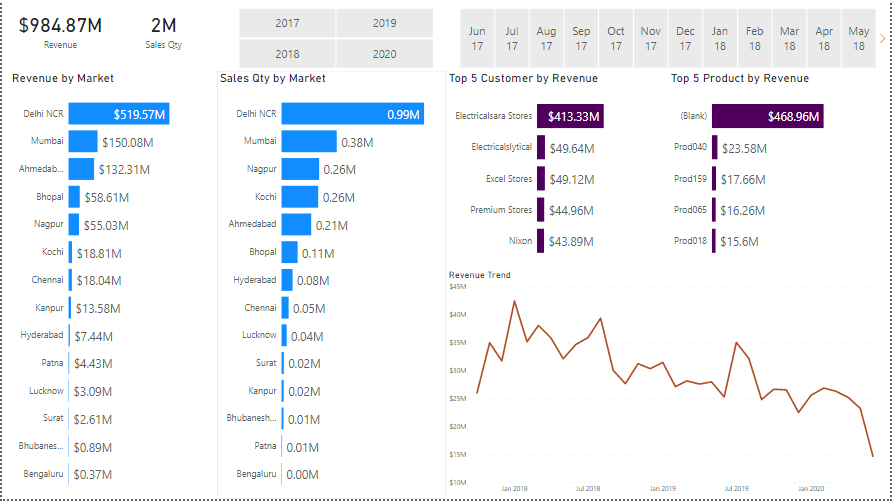

Layout of this report page (visuals, bound fields, positions):
{"tool":"powerbi","page":{"name":"Key Insights","canvas":[1600,900],"ordinal":0},"visuals":[{"type":"card","fields":{"Values":["Base Measures.Revenue"]},"box":[12,3.4,185.1,96],"z":0},{"type":"card","fields":{"Values":["Base Measures.Sales Qty"]},"box":[197.1,3.4,190.3,96],"z":1000},{"type":"clusteredBarChart","title":"Revenue by Market","fields":{"Y":["Base Measures.Revenue"],"Category":["sales markets.markets_name"]},"box":[12.7,128.6,374.9,771.6],"z":2000},{"type":"clusteredBarChart","title":"Sales Qty by Market","fields":{"Y":["Base Measures.Sales Qty"],"Category":["sales markets.markets_name"]},"box":[387.6,128.6,413,771.6],"z":3000},{"type":"slicer","fields":{"Values":["sales date.year"]},"box":[402.1,9.1,398.5,119.5],"z":4000},{"type":"slicer","fields":{"Values":["sales date.cy_date"]},"box":[800.6,9.1,798.8,119.5],"z":5000},{"type":"clusteredBarChart","title":"Top 5 Customer by Revenue","fields":{"Y":["Base Measures.Revenue"],"Category":["sales customers.custmer_name"]},"box":[800.6,128.6,374.9,356.8],"z":6000},{"type":"clusteredBarChart","title":"Top 5 Product by Revenue","fields":{"Y":["Base Measures.Revenue"],"Category":["sales products.product_code"]},"box":[1200.9,128.6,374.9,356.8],"z":7000},{"type":"lineChart","title":"Revenue Trend","fields":{"Y":["Base Measures.Revenue"],"Category":["sales date.cy_date"]},"box":[800.6,485.4,798.8,414.8],"z":8000}]}

Visuals, with their boxes in screenshot pixels (x1, y1, x2, y2), scaled from the page's 1600x900 canvas onto the 893x501 screenshot:
card - Base Measures.Revenue: 7, 2, 110, 55
card - Base Measures.Sales Qty: 110, 2, 216, 55
"Revenue by Market" clusteredBarChart: 7, 72, 216, 500
"Sales Qty by Market" clusteredBarChart: 216, 72, 447, 500
slicer - sales date.year: 224, 5, 447, 72
slicer - sales date.cy_date: 447, 5, 892, 72
"Top 5 Customer by Revenue" clusteredBarChart: 447, 72, 656, 270
"Top 5 Product by Revenue" clusteredBarChart: 670, 72, 879, 270
"Revenue Trend" lineChart: 447, 270, 892, 500
